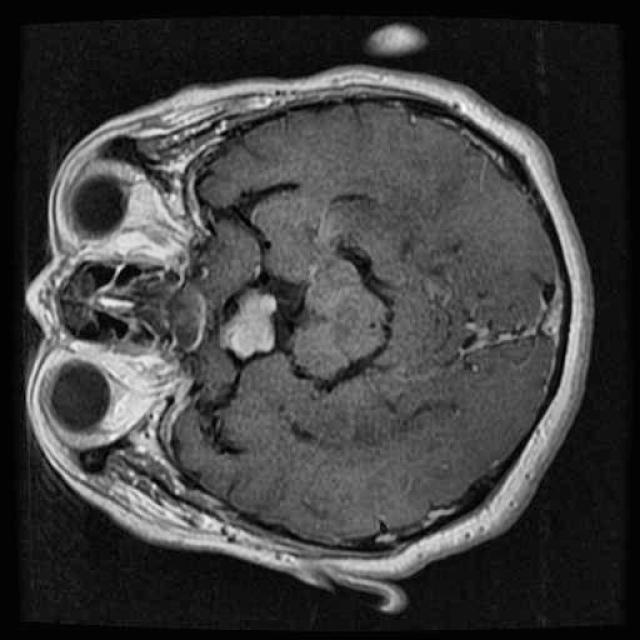Tumor: (210, 270, 291, 375)
